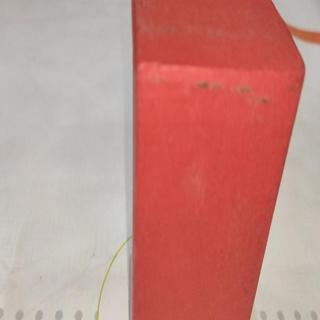redbox: (129, 0, 306, 320)
